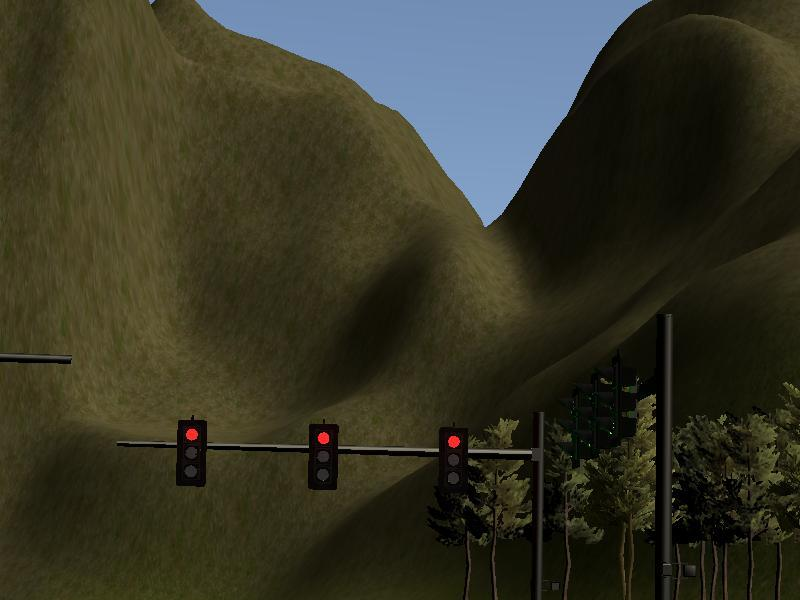Red: (179, 420, 206, 486), (441, 428, 467, 492), (310, 425, 336, 488)
